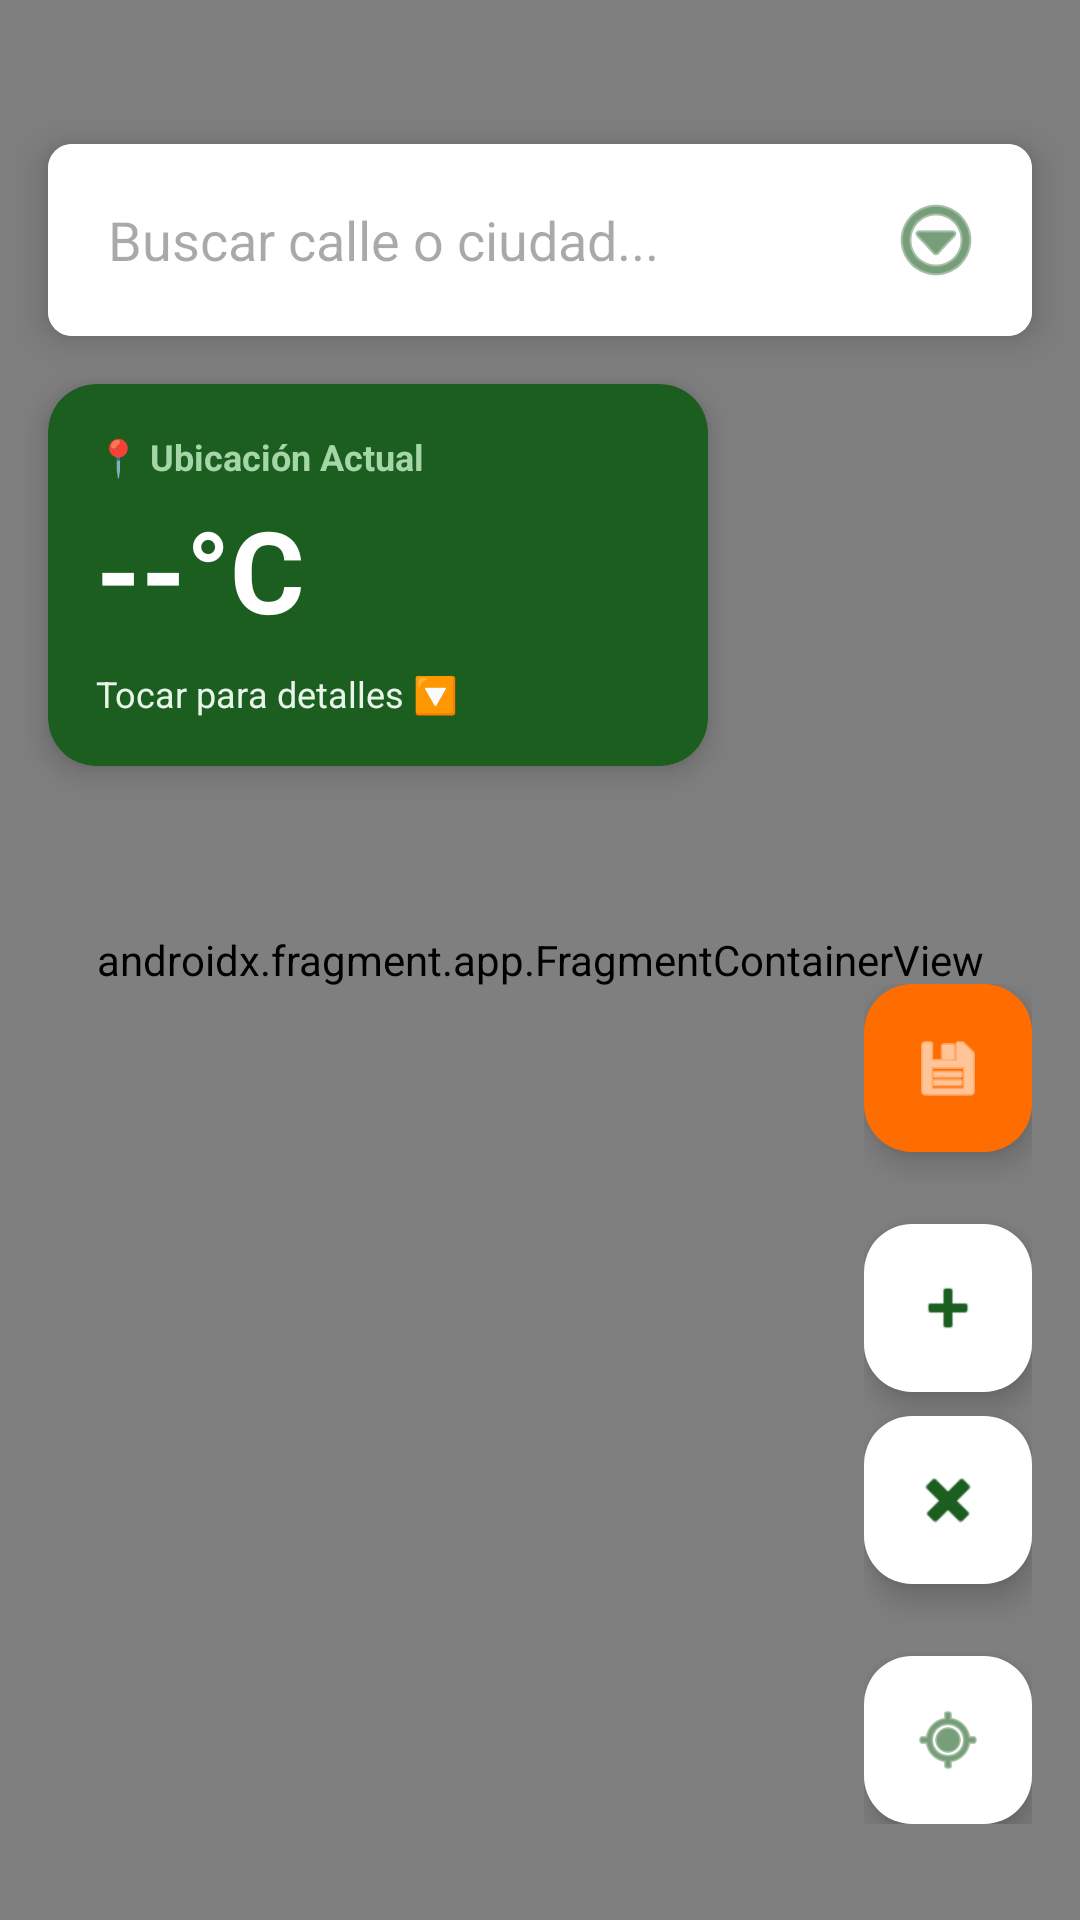

Screen size 1080*1920. Icon name, then its box in pixels as (x1, y1, x2, y2):
Guardar Pin: (864, 984, 1032, 1152)
Mi Ubicación: (864, 1656, 1032, 1824)
Opciones: (900, 204, 972, 276)
Zoom In: (864, 1224, 1032, 1392)
